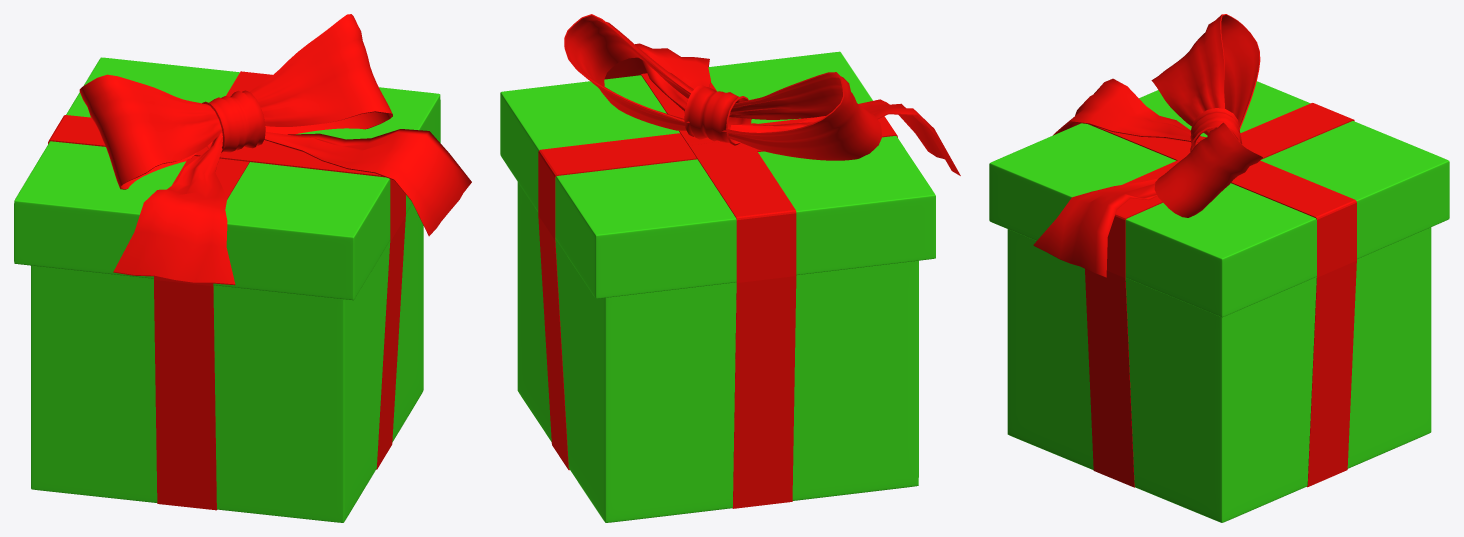
File: Gift.fbx
3 views of the same model, side by side, from view 1: azimuth 30°, elevation 25°; view 2: azimuth 150°, elevation 25°; view 3: azimuth 270°, elevation 25° (orthographic). The views are drawn at different scales.
Visible parts, largest first — view 1: Cube.001, Plane.006, Plane.008, Plane.001, Plane.004, Cylinder.001; view 2: Cube.001, Plane.004, Plane.006, Plane.001, Plane.008, Cylinder.001; view 3: Cube.001, Plane.001, Plane.004, Plane.006, Plane.008, Cylinder.001.
Boxes of the visible parts, bbox=[...] form: Cube.001: bbox=[14, 57, 440, 522]; Plane.006: bbox=[79, 14, 392, 189]; Plane.008: bbox=[113, 129, 471, 285]; Plane.001: bbox=[154, 71, 272, 510]; Plane.004: bbox=[48, 115, 405, 469]; Cylinder.001: bbox=[202, 90, 265, 152]; Cube.001: bbox=[500, 51, 935, 522]; Plane.004: bbox=[640, 73, 796, 508]; Plane.006: bbox=[564, 14, 881, 160]; Plane.001: bbox=[538, 116, 897, 470]; Plane.008: bbox=[604, 43, 960, 175]; Cylinder.001: bbox=[684, 85, 751, 145]; Cube.001: bbox=[989, 81, 1449, 522]; Plane.001: bbox=[1088, 124, 1356, 487]; Plane.004: bbox=[1085, 103, 1354, 487]; Plane.006: bbox=[1151, 14, 1262, 217]; Plane.008: bbox=[1033, 78, 1206, 277]; Cylinder.001: bbox=[1190, 108, 1242, 151].
Bounding box in the file's own units: 306 × 269 × 306.
